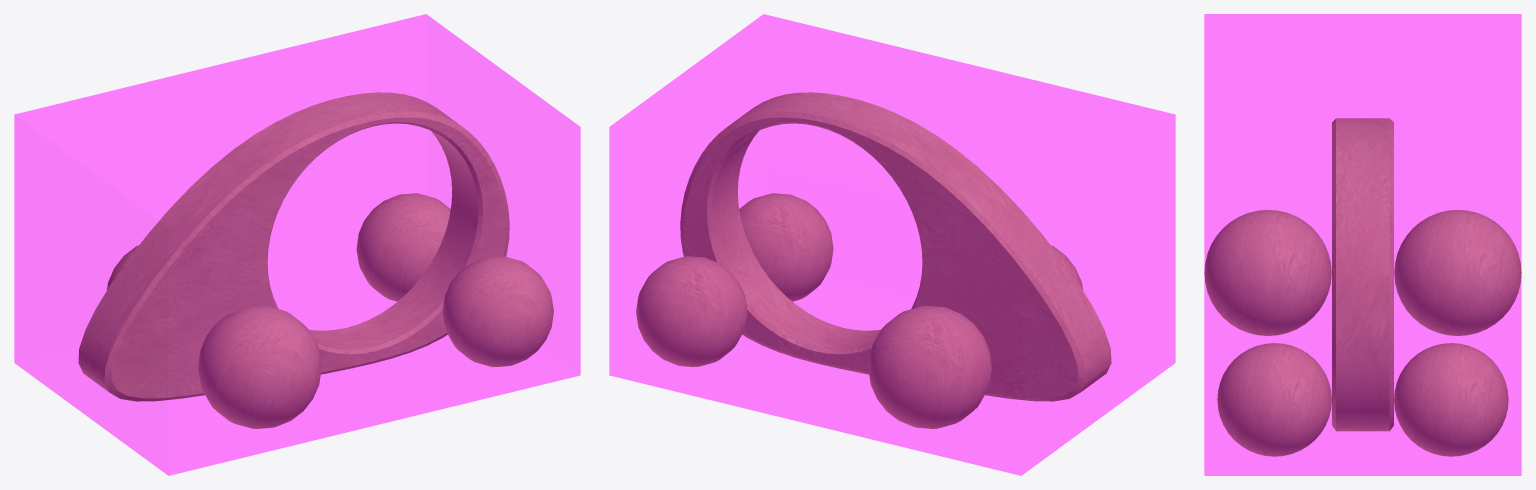
File: tumiki_car.fbx
3 views of the same model, side by side, from view 1: azimuth 30°, elevation 25°; view 2: azimuth 150°, elevation 25°; view 3: azimuth 270°, elevation 25° (orthographic). The views are drawn at different scales.
Parts seen in each view (by area): view 1: boundingbox, tumiki_car; view 2: boundingbox, tumiki_car; view 3: boundingbox, tumiki_car.
Part boxes in pixels (x1,y1,x2,y2): boundingbox: (14, 14, 580, 475); tumiki_car: (78, 92, 553, 428); boundingbox: (609, 14, 1175, 475); tumiki_car: (636, 92, 1111, 428); boundingbox: (1204, 14, 1521, 475); tumiki_car: (1204, 118, 1521, 456).
Size of the model in its own units: 7.68 by 4.43 by 4.98.
Materials: 2 (1 with a texture image).
